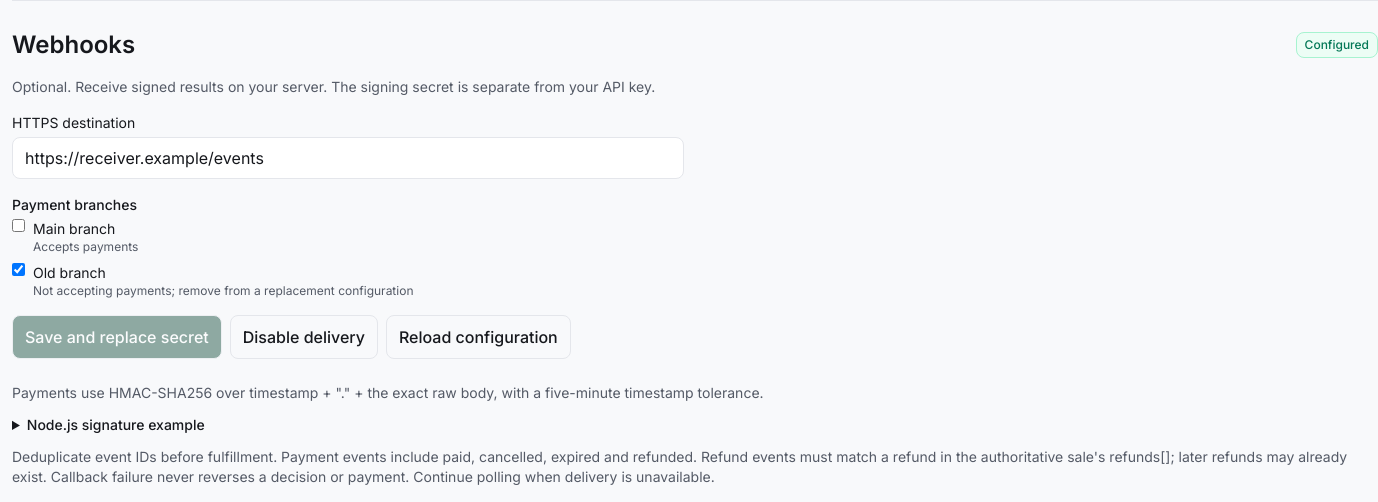
webhook settings controller › can remove a configured unavailable branch but cannot save it in a replacement
Expected: the field labelled "HTTPS destination" is enabled, x1=12 y1=137 x2=684 y2=179
Expected: the button "Save and replace secret" is disabled, x1=12 y1=315 x2=222 y2=359
Click the checkbox labelled "Old branch" at [18, 270], box x1=12 y1=263 x2=25 y2=276
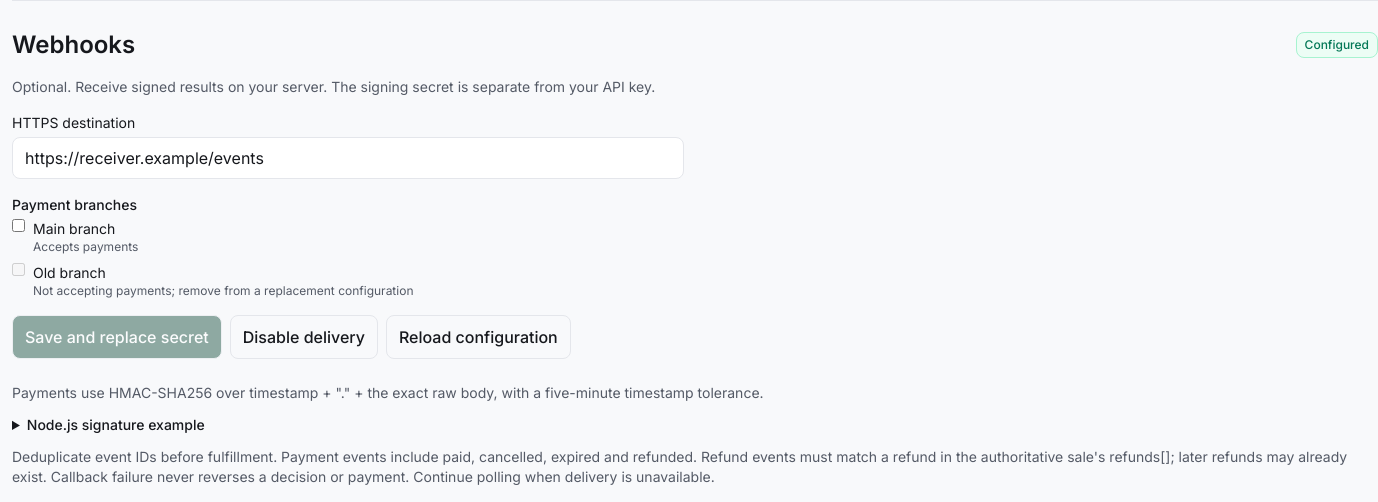
Click the checkbox labelled "Main branch Accepts payments" at [18, 226], box x1=12 y1=219 x2=25 y2=232
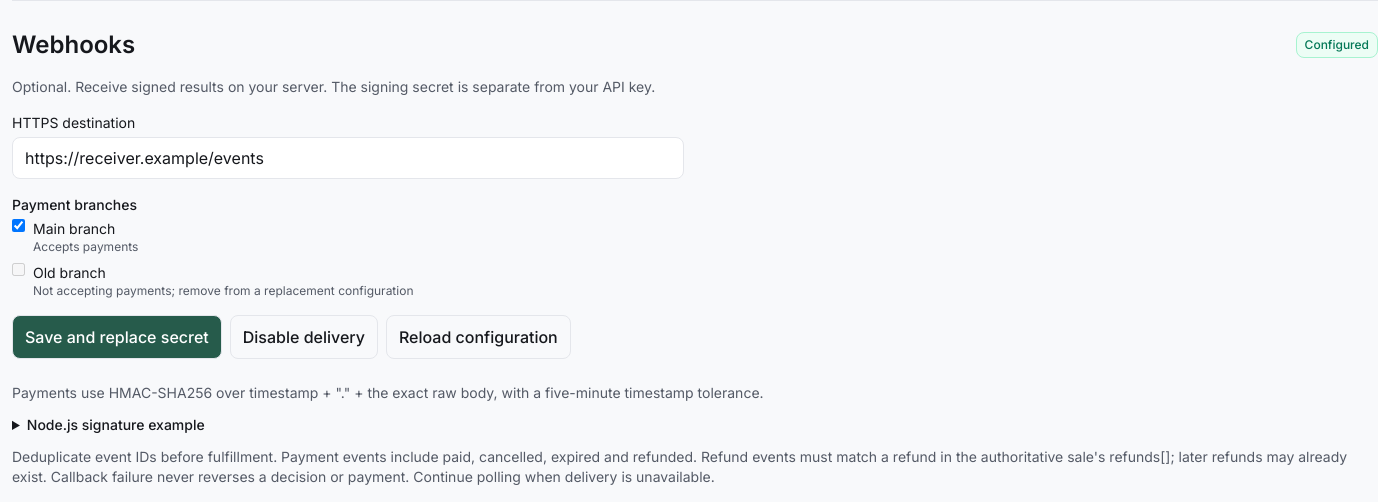
Now the button "Save and replace secret" is enabled, box x1=12 y1=315 x2=222 y2=359
